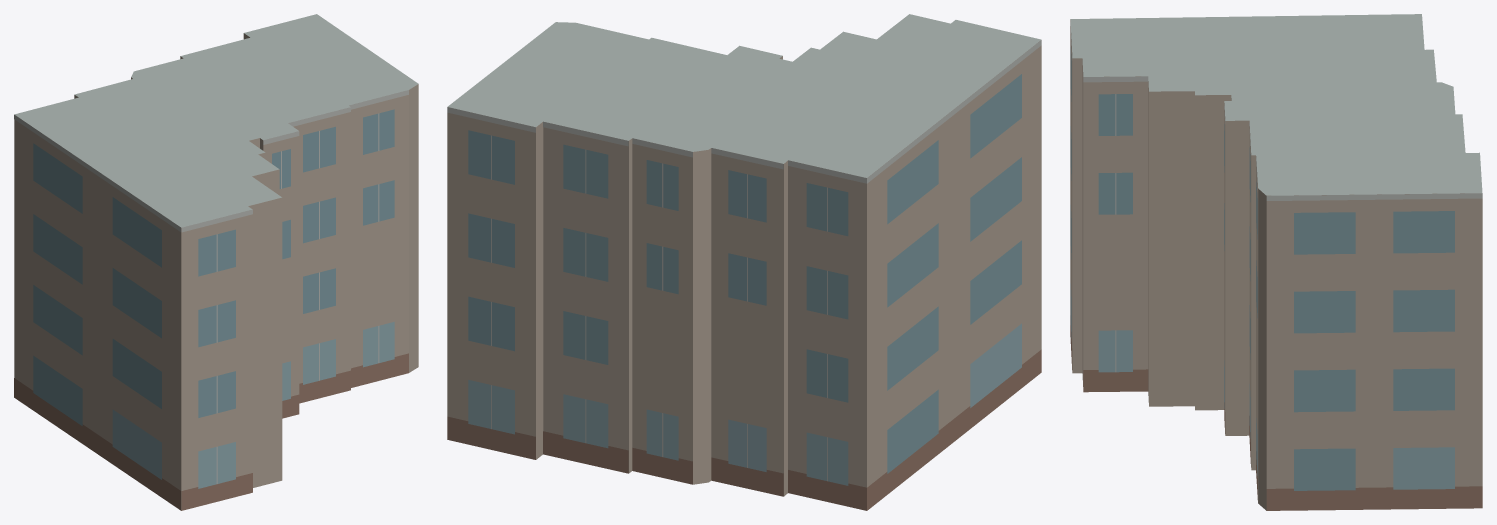
Rendered from survey-upis-32489880.glb.
The picture shows the model from 3 angles, left to right: view 1: azimuth 30°, elevation 25°; view 2: azimuth 150°, elevation 25°; view 3: azimuth 270°, elevation 25°; orthographic projection. The views are drawn at different scales.
Parts seen in each view (by area): view 1: survey-upis-32489880.tmp; view 2: survey-upis-32489880.tmp; view 3: survey-upis-32489880.tmp.
Part boxes in pixels (x1,y1,x2,y2): survey-upis-32489880.tmp: (14, 14, 418, 510); survey-upis-32489880.tmp: (447, 14, 1041, 510); survey-upis-32489880.tmp: (1070, 14, 1482, 510).
Bounding box in the file's own units: 17.83 × 14.4 × 17.08.
